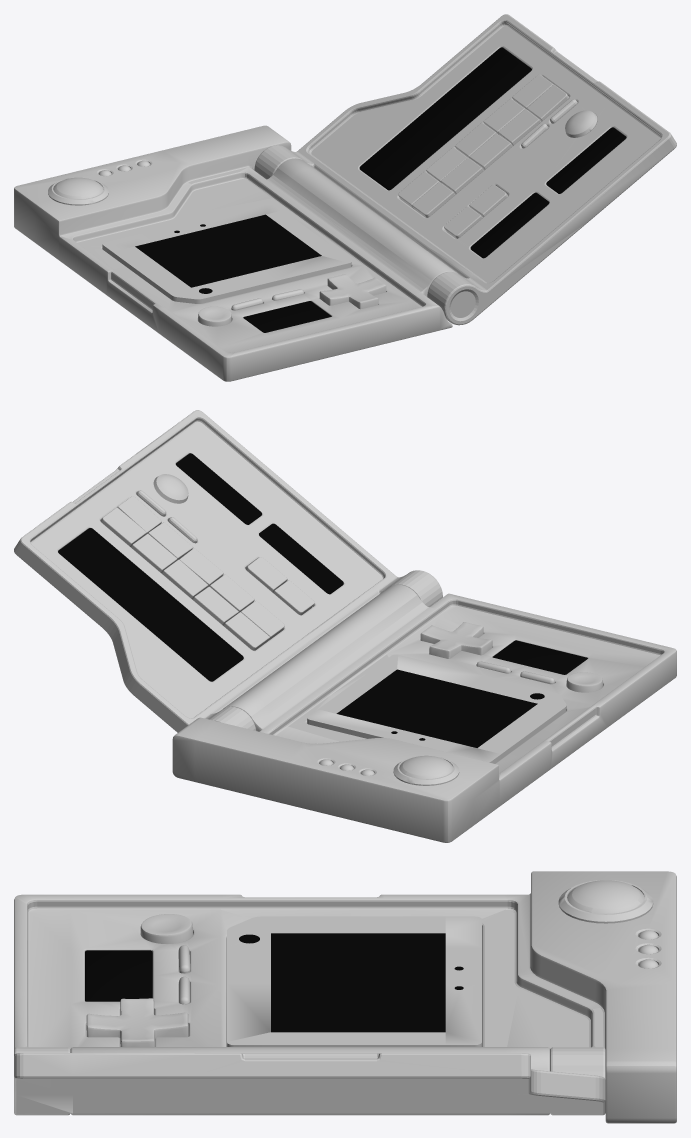
The model's file is Pokedex.fbx.
3 renders of one model, top to bottom at view 1: azimuth 30°, elevation 25°; view 2: azimuth 150°, elevation 25°; view 3: azimuth 270°, elevation 25°, orthographic. The views are drawn at different scales.
Parts seen in each view (by area): view 1: Pokedex, Screen; view 2: Pokedex, Screen; view 3: Pokedex, Screen.
Boxes of the visible parts, x1,y1,x2,y2 form: Pokedex: (14, 14, 676, 381); Screen: (135, 47, 626, 332); Pokedex: (14, 410, 676, 842); Screen: (58, 453, 587, 747); Pokedex: (14, 871, 676, 1123); Screen: (85, 933, 463, 1032).
Bounding box in the file's own units: 56.19 × 16.55 × 45.97.
